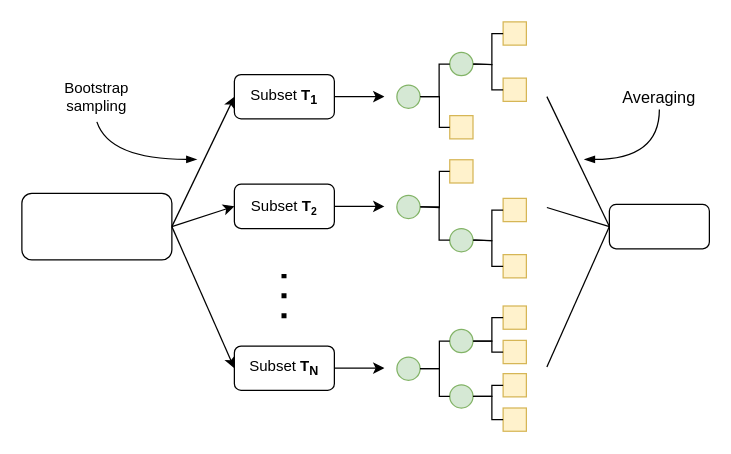
Some shapes in this 731 by 454 pixel diagram are drawn without their labels. Each missing label, with the centre of its shape:
MTF: pixel 658 226
Training set T: pixel 96 226
